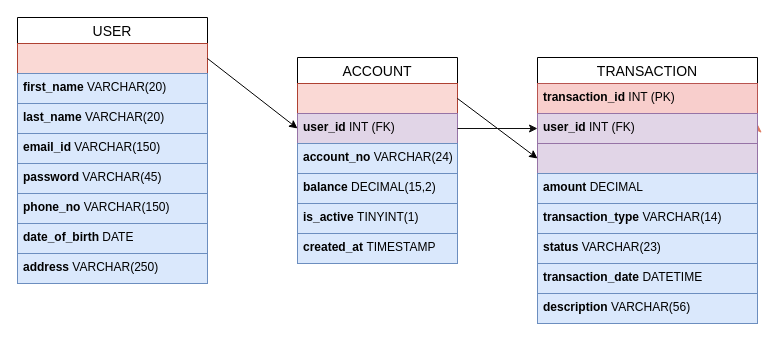
The diagram is 783 pixels wide and 344 high, and some of its shapes have lost their labels. Each missing label, with the centre of its shape:
"account_id INT (FK)" goes at point (647, 158).
"account_id INT (PK)" goes at point (377, 98).
"user_id INT (PK)" goes at point (112, 58).
